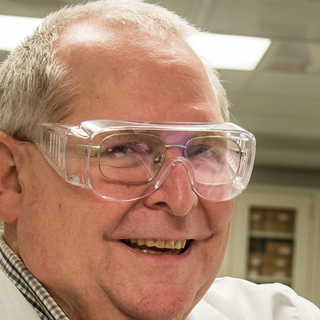eye: (97, 138, 155, 172), (182, 138, 227, 172)
